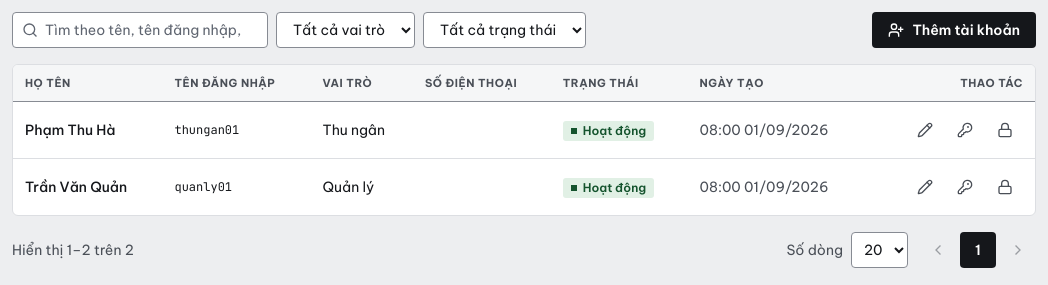
UsersPanel › narrows the list with the search box
The image size is (1048, 285).
Expected: the text "Phạm Thu Hà" is shown, [13,102,162,158]
Expected: the text "Trần Văn Quản" is shown, [13,158,162,215]
In the search field labelled "Tìm theo tên, tên đăng nhập, số điện thoại": (140, 30) [12,12,268,48], type "Quản"
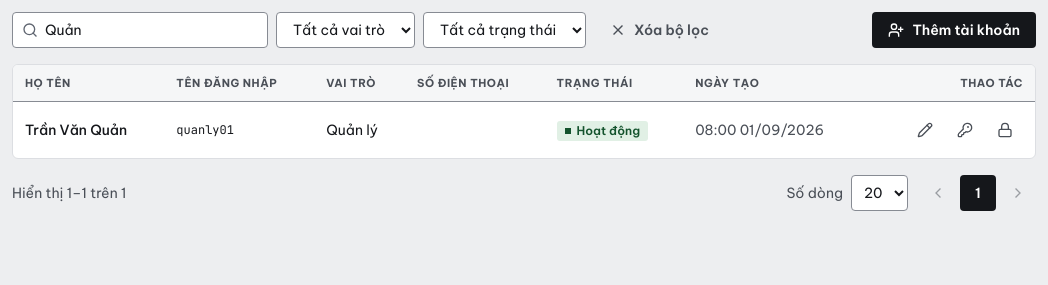
Expected: the text "Trần Văn Quản" is shown, [13,102,164,158]
Expected: the text "Phạm Thu Hà" is gone
